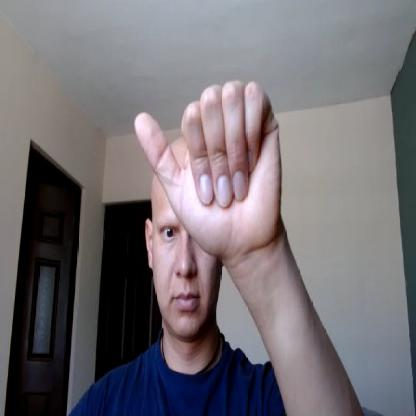A: (135, 80, 282, 260)
